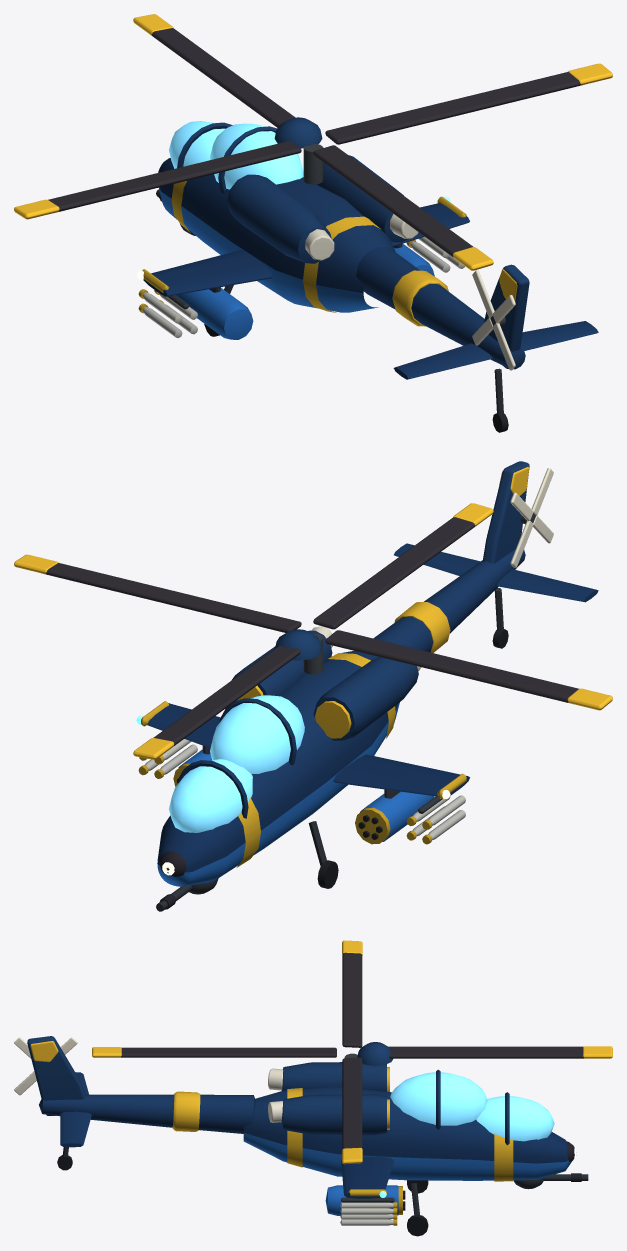
Rendered from gunship.glb.
3 renders of one model, top to bottom at view 1: azimuth 30°, elevation 25°; view 2: azimuth 150°, elevation 25°; view 3: azimuth 270°, elevation 25°, orthographic. The views are drawn at different scales.
Visible parts, largest first — view 1: gunship Kestrel navy, gunship Rotor Ashen charcoal, gunship Kestrel sky, gunship Glass, gunship Sunflower, gunship Warm white, gunship Rotor Sunflower, gunship TailRotor Warm white, gunship Gunmetal, gunship Rotor Kestrel navy; view 2: gunship Kestrel navy, gunship Rotor Ashen charcoal, gunship Glass, gunship Sunflower, gunship Kestrel sky, gunship Rotor Sunflower, gunship Warm white, gunship Gunmetal, gunship TailRotor Warm white, gunship Rubber, gunship Rotor Kestrel navy; view 3: gunship Kestrel navy, gunship Rotor Ashen charcoal, gunship Glass, gunship Kestrel sky, gunship Sunflower, gunship Warm white, gunship Rotor Sunflower, gunship Rubber, gunship Rotor Kestrel navy, gunship Gunmetal, gunship TailRotor Warm white, gunship ChinTurret Gunmetal.
Boxes of the visible parts, x1,y1,x2,y2 form: gunship Kestrel navy: [143, 122, 598, 379]; gunship Rotor Ashen charcoal: [48, 28, 581, 257]; gunship Kestrel sky: [159, 187, 434, 339]; gunship Glass: [169, 121, 303, 189]; gunship Sunflower: [138, 181, 517, 326]; gunship Warm white: [142, 214, 464, 337]; gunship Rotor Sunflower: [14, 14, 612, 270]; gunship TailRotor Warm white: [472, 270, 515, 370]; gunship Gunmetal: [167, 143, 503, 414]; gunship Rotor Kestrel navy: [274, 117, 322, 148]; gunship Kestrel navy: [147, 461, 598, 872]; gunship Rotor Ashen charcoal: [46, 517, 578, 745]; gunship Glass: [169, 695, 304, 832]; gunship Sunflower: [138, 466, 529, 867]; gunship Kestrel sky: [157, 702, 434, 886]; gunship Rotor Sunflower: [14, 503, 612, 759]; gunship Warm white: [144, 626, 465, 839]; gunship Gunmetal: [202, 588, 503, 866]; gunship TailRotor Warm white: [510, 468, 553, 568]; gunship Rubber: [177, 629, 508, 888]; gunship Rotor Kestrel navy: [275, 629, 322, 660]; gunship Kestrel navy: [27, 1036, 568, 1198]; gunship Rotor Ashen charcoal: [121, 952, 583, 1149]; gunship Glass: [390, 1072, 554, 1141]; gunship Kestrel sky: [243, 1133, 571, 1215]; gunship Sunflower: [30, 1041, 513, 1225]; gunship Warm white: [268, 1068, 393, 1225]; gunship Rotor Sunflower: [92, 940, 612, 1164]; gunship Rubber: [57, 1155, 428, 1236]; gunship Rotor Kestrel navy: [357, 1042, 392, 1065]; gunship Gunmetal: [62, 1053, 419, 1215]; gunship TailRotor Warm white: [14, 1037, 77, 1095]; gunship ChinTurret Gunmetal: [513, 1174, 588, 1189].
Size of the model in its own units: 6.8 by 2.54 by 7.82.
Materials: 10 (7 with a texture image).
